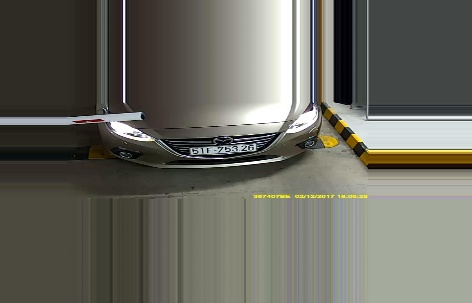plate: (185, 139, 258, 158)
